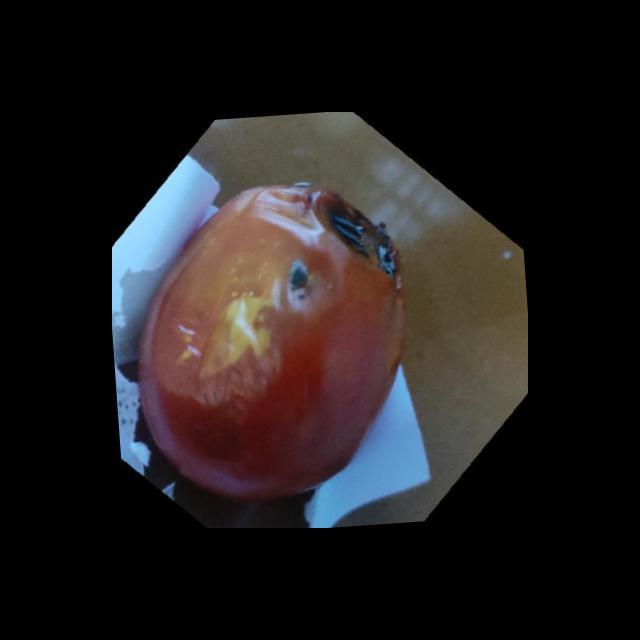tomato: (130, 176, 413, 502)
